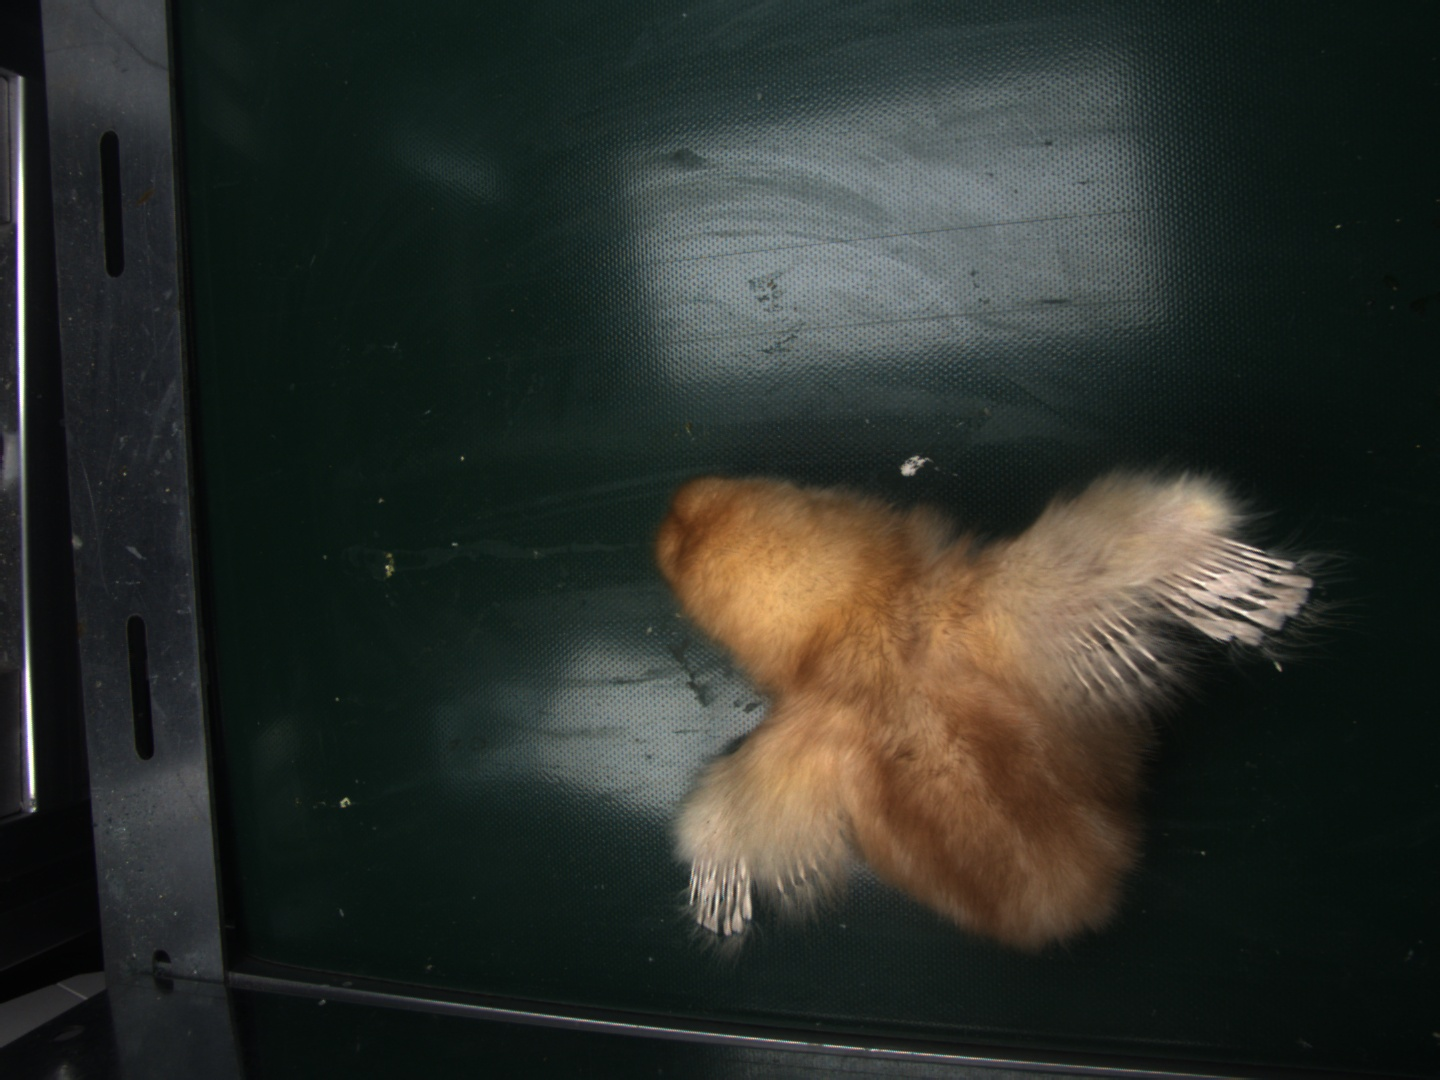female: (1163, 535, 1313, 649)
